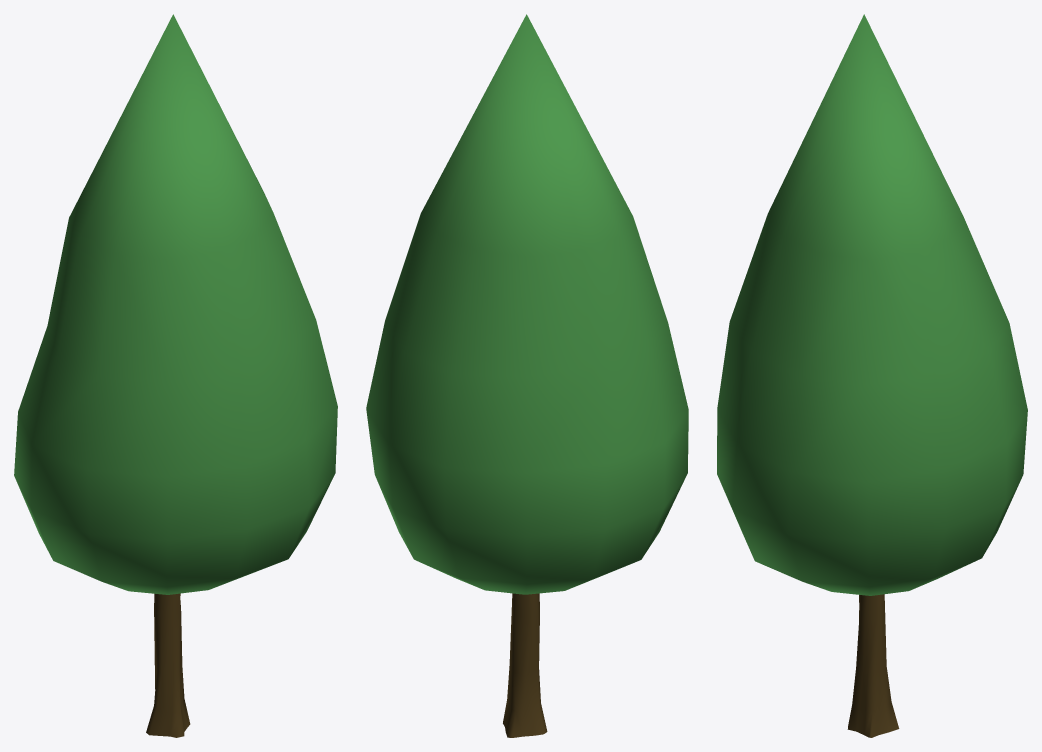
Rendered from Plant_mode_LOD1_Tree004.fbx.
3 views of the same model, side by side, from view 1: azimuth 30°, elevation 25°; view 2: azimuth 150°, elevation 25°; view 3: azimuth 270°, elevation 25° (orthographic).
Visible parts, largest first — view 1: Plant_mode_LOD1_Tree004; view 2: Plant_mode_LOD1_Tree004; view 3: Plant_mode_LOD1_Tree004.
Part boxes in pixels (bbox=[...]): Plant_mode_LOD1_Tree004: bbox=[14, 14, 337, 737]; Plant_mode_LOD1_Tree004: bbox=[366, 14, 688, 737]; Plant_mode_LOD1_Tree004: bbox=[717, 14, 1027, 737].
Bounding box in the file's own units: 3.63 × 8.57 × 3.38.
